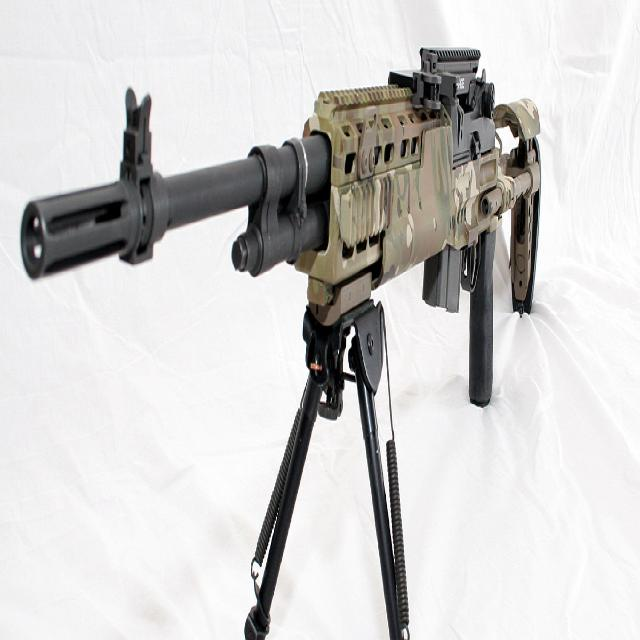Gun: (12, 98, 596, 636)
